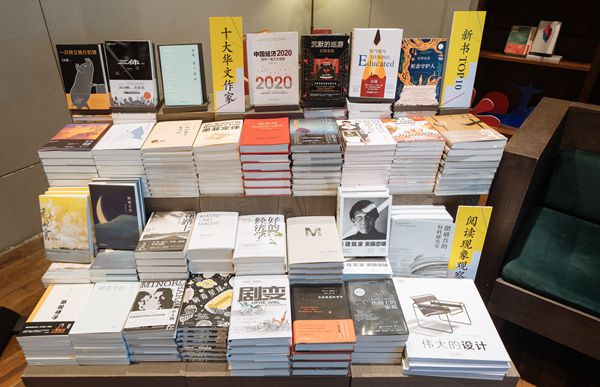book: (205, 16, 247, 115), (347, 25, 398, 100), (339, 190, 387, 261), (235, 212, 287, 266)
